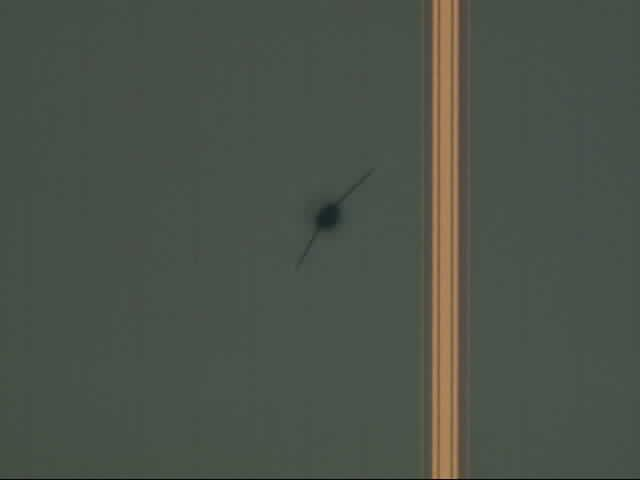PIQ PARTICLE: (292, 161, 384, 267)
